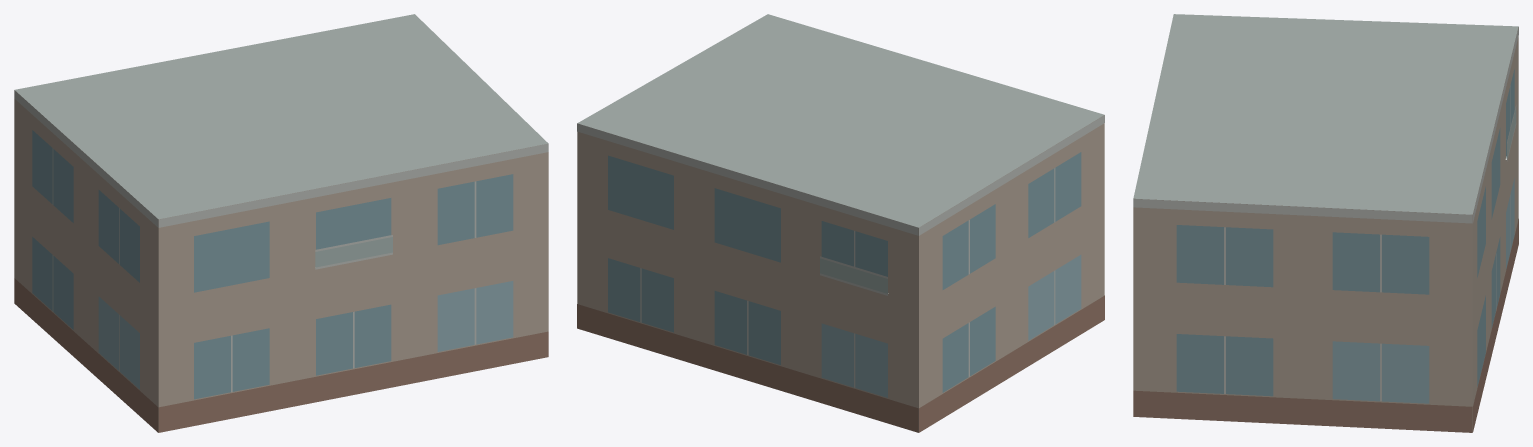
The model's file is survey-upis-32566578.glb.
The picture shows the model from 3 angles, left to right: view 1: azimuth 30°, elevation 25°; view 2: azimuth 150°, elevation 25°; view 3: azimuth 270°, elevation 25°; orthographic projection. The views are drawn at different scales.
Visible parts, largest first — view 1: survey-upis-32566578.tmp; view 2: survey-upis-32566578.tmp; view 3: survey-upis-32566578.tmp.
Part boxes in pixels (x1,y1,x2,y2): survey-upis-32566578.tmp: (14,14,548,432); survey-upis-32566578.tmp: (577,14,1104,432); survey-upis-32566578.tmp: (1133,14,1518,432).
Bounding box in the file's own units: 12.05 × 6.1 × 9.78.
